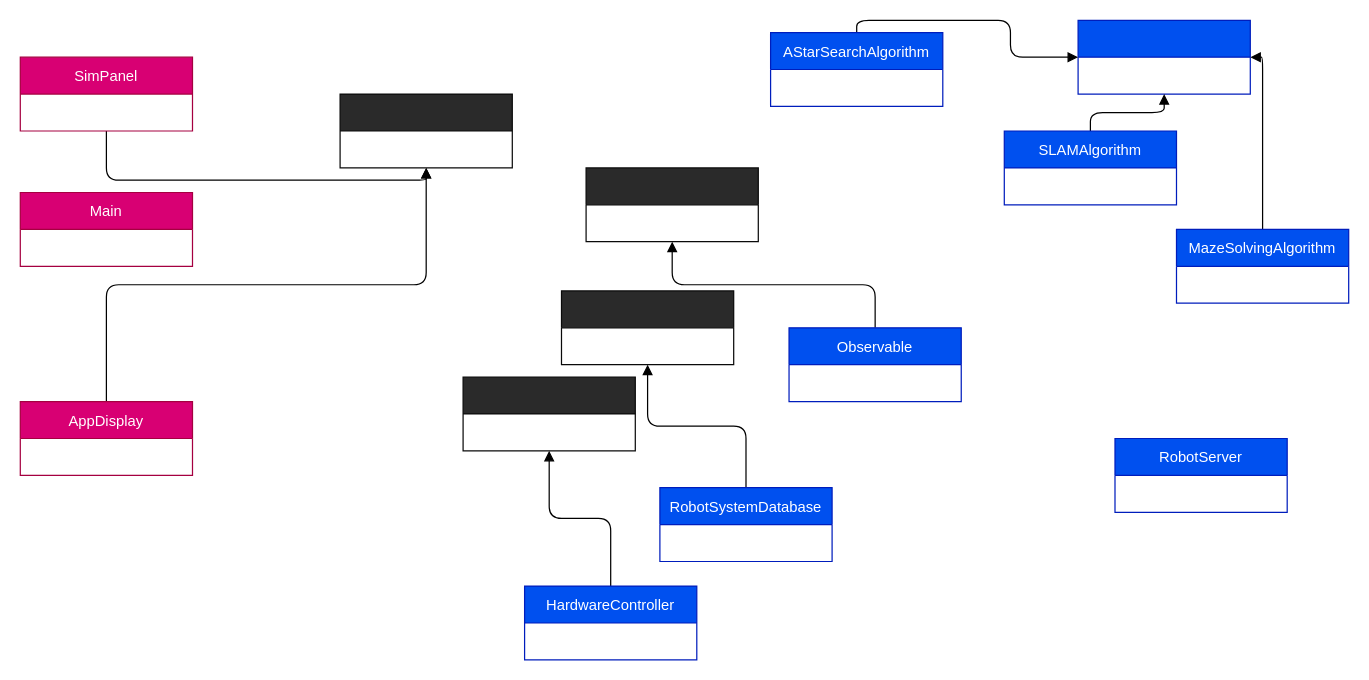
Image size: 1369x680. Some labels were removed from this diagram. The centre of each missing label's shape, as x and y in pixels:
"AlgorithmManager" goes at point (1163, 56).
"IHardwareController" goes at point (548, 413).
"IObservable" goes at point (671, 204).
"IRobotSystemDatabase" goes at point (647, 327).
"Observer" goes at point (425, 130).
